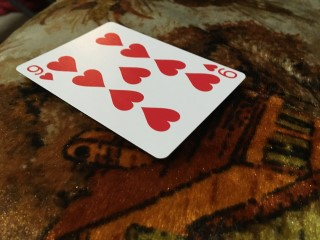NineOfHearts: (16, 22, 246, 159)
